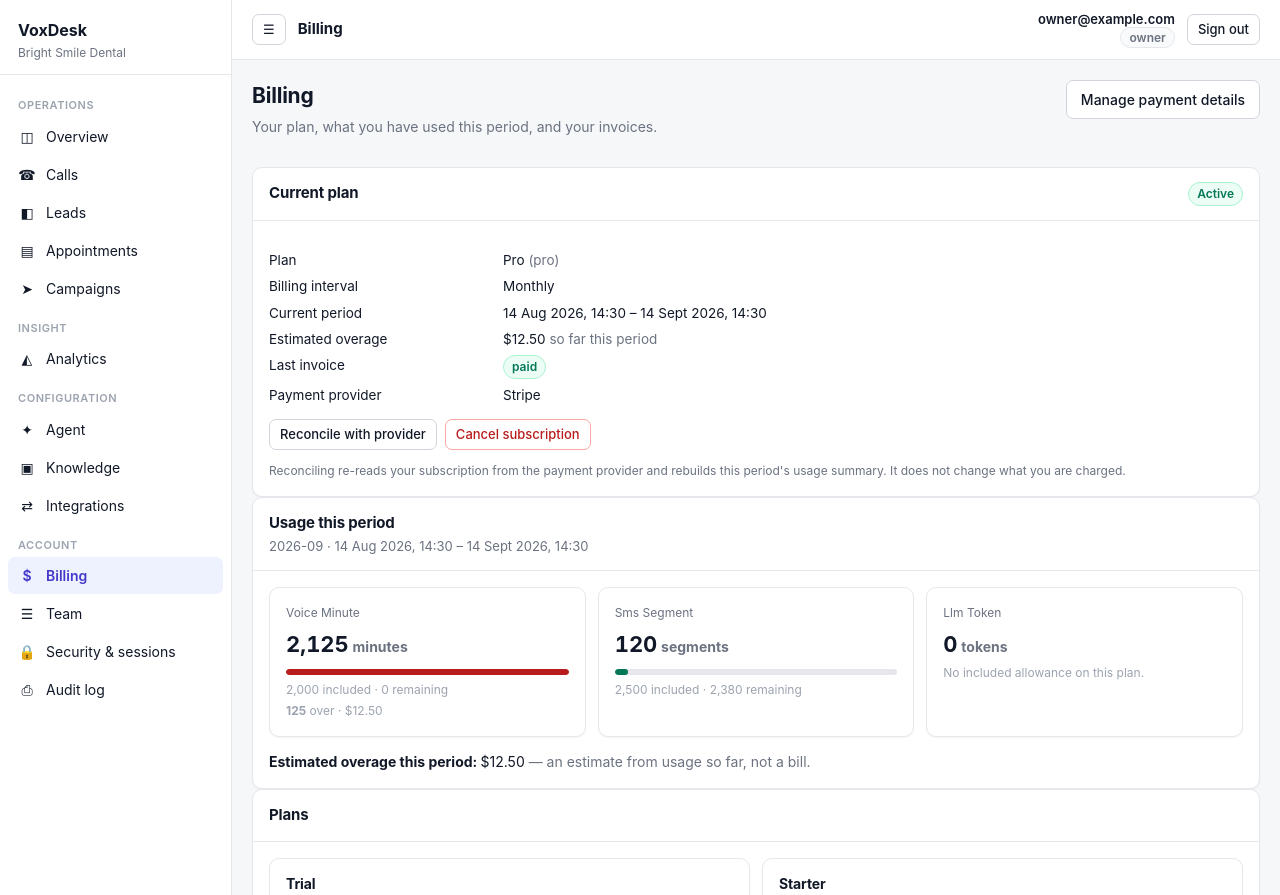
Test: portal › opens the URL the backend returned, safely
The image size is (1280, 895).
Expected: the heading "Billing" is shown, [252, 83, 314, 108]
Click the button "Manage payment details": (1163, 100) [1066, 80, 1260, 119]
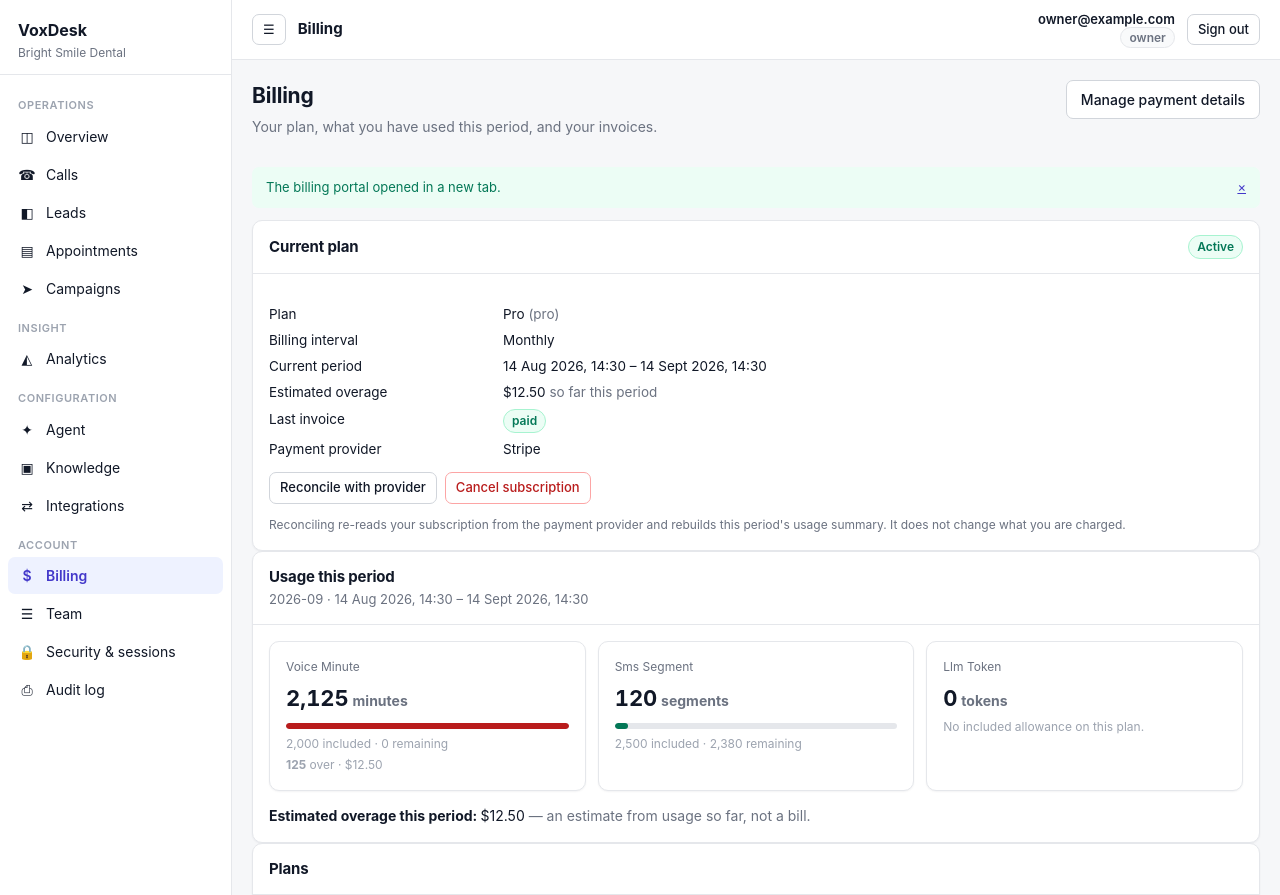
Expected: the text "The billing portal opened in a new tab." is shown, [266, 178, 501, 194]
